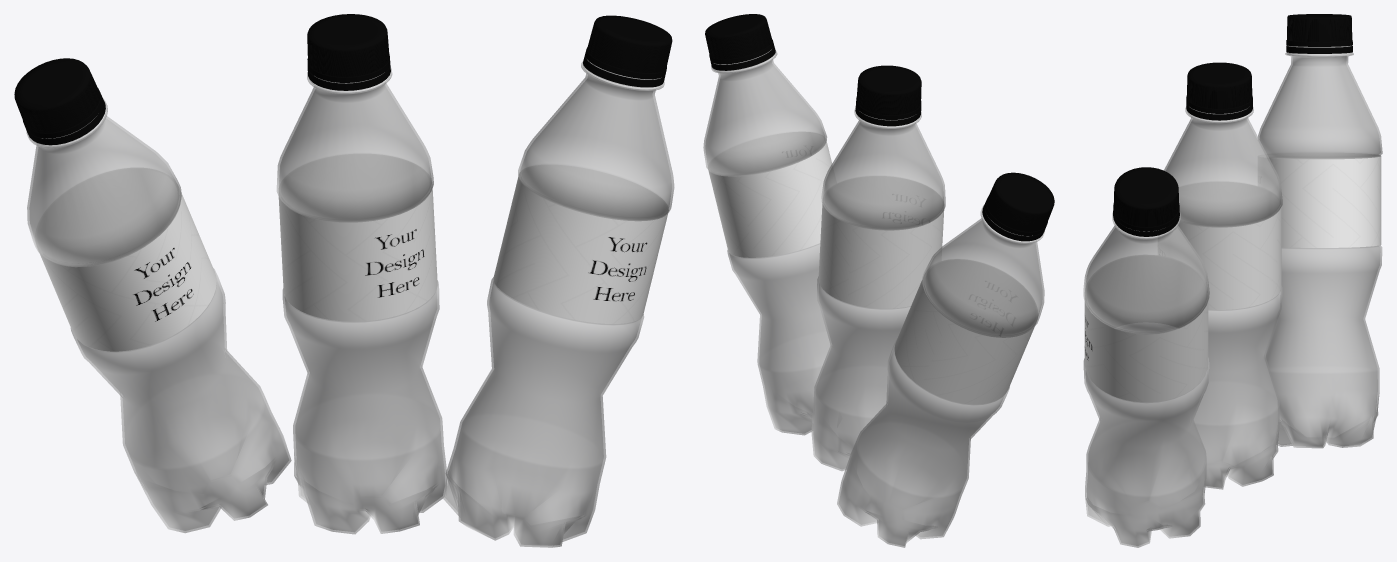
Rendered from Soft Drinks A-6.glb.
The picture shows the model from 3 angles, left to right: view 1: azimuth 30°, elevation 25°; view 2: azimuth 150°, elevation 25°; view 3: azimuth 270°, elevation 25°; orthographic projection. The views are drawn at different scales.
Parts seen in each view (by area): view 1: Bottle_Bottle.001_Cylinder.002, Bottle_Bottle.001_Cylinder.001, Bottle_Bottle.001_Cylinder.008, Label_Bottle.001_Cylinder.002, Label_Bottle.001_Cylinder.001, Label_Bottle.001_Cylinder.007, Plastic_Neck_Bottle.001_Cylinder.006, Plastic_Neck_Bottle.001_Cylinder.001, Plastic_Neck_Bottle.001_Cylinder.002; view 2: Bottle_Bottle.001_Cylinder.008, Bottle_Bottle.001_Cylinder.002, Bottle_Bottle.001_Cylinder.001, Label_Bottle.001_Cylinder.002, Label_Bottle.001_Cylinder.007, Label_Bottle.001_Cylinder.001, Plastic_Neck_Bottle.001_Cylinder.006, Plastic_Neck_Bottle.001_Cylinder.001, Plastic_Neck_Bottle.001_Cylinder.002; view 3: Bottle_Bottle.001_Cylinder.008, Bottle_Bottle.001_Cylinder.002, Bottle_Bottle.001_Cylinder.001, Label_Bottle.001_Cylinder.007, Label_Bottle.001_Cylinder.002, Label_Bottle.001_Cylinder.001, Plastic_Neck_Bottle.001_Cylinder.002, Plastic_Neck_Bottle.001_Cylinder.001, Plastic_Neck_Bottle.001_Cylinder.006.
Part boxes in pixels (x1,y1,x2,y2): Bottle_Bottle.001_Cylinder.002: (442,59,674,547); Bottle_Bottle.001_Cylinder.001: (276,68,446,534); Bottle_Bottle.001_Cylinder.008: (26,99,291,532); Label_Bottle.001_Cylinder.002: (493,172,668,323); Label_Bottle.001_Cylinder.001: (278,181,437,321); Label_Bottle.001_Cylinder.007: (36,183,216,351); Plastic_Neck_Bottle.001_Cylinder.006: (14,58,105,145); Plastic_Neck_Bottle.001_Cylinder.001: (307,14,390,90); Plastic_Neck_Bottle.001_Cylinder.002: (583,15,672,87); Bottle_Bottle.001_Cylinder.008: (837,205,1044,547); Bottle_Bottle.001_Cylinder.002: (703,49,831,435); Bottle_Bottle.001_Cylinder.001: (811,108,945,470); Label_Bottle.001_Cylinder.002: (708,138,832,257); Label_Bottle.001_Cylinder.007: (894,273,1037,404); Label_Bottle.001_Cylinder.001: (818,198,944,308); Plastic_Neck_Bottle.001_Cylinder.006: (982,172,1054,241); Plastic_Neck_Bottle.001_Cylinder.001: (855,65,921,126); Plastic_Neck_Bottle.001_Cylinder.002: (705,14,775,70); Bottle_Bottle.001_Cylinder.008: (1258,45,1382,448); Bottle_Bottle.001_Cylinder.002: (1083,213,1209,547); Bottle_Bottle.001_Cylinder.001: (1164,107,1282,489); Label_Bottle.001_Cylinder.007: (1267,155,1381,247); Label_Bottle.001_Cylinder.002: (1084,290,1208,402); Label_Bottle.001_Cylinder.001: (1177,204,1281,309); Plastic_Neck_Bottle.001_Cylinder.002: (1113,167,1179,236); Plastic_Neck_Bottle.001_Cylinder.001: (1186,62,1252,120); Plastic_Neck_Bottle.001_Cylinder.006: (1286,14,1352,53).
Size of the model in its own units: 2.65 by 2.41 by 1.59.
3 materials, 1 textured.
